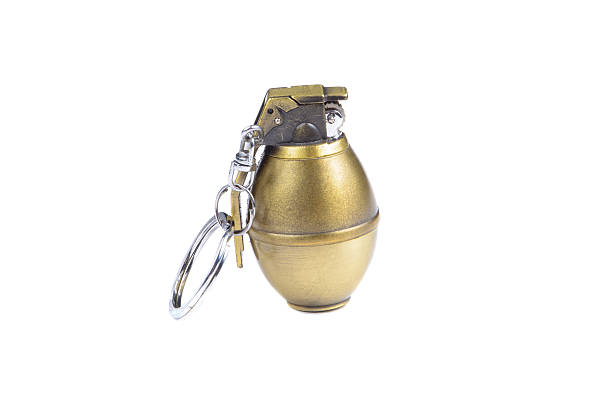e1: (167, 80, 380, 314)
